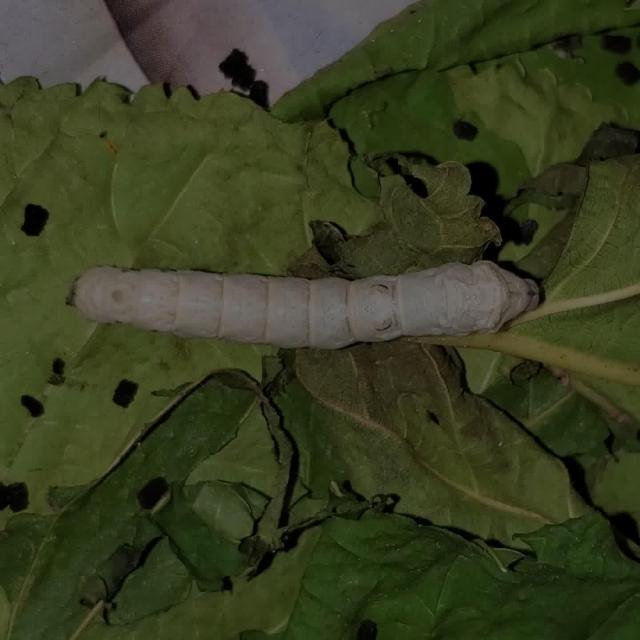Healthy: (56, 228, 550, 360)
